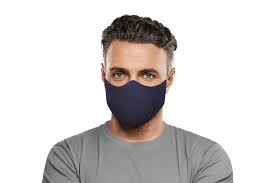with-mask: (97, 12, 183, 130)
